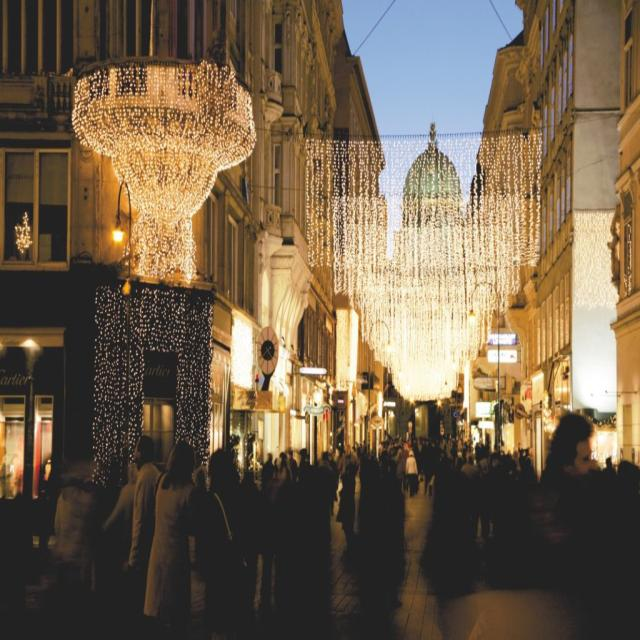body: (436, 405, 640, 640), (184, 435, 414, 637), (46, 447, 106, 639), (140, 437, 198, 621), (93, 454, 143, 576), (126, 432, 160, 574), (260, 474, 287, 611), (339, 461, 358, 556), (316, 450, 334, 537), (417, 433, 437, 499), (340, 442, 358, 514), (405, 449, 419, 499), (260, 452, 275, 494), (402, 419, 416, 436)
